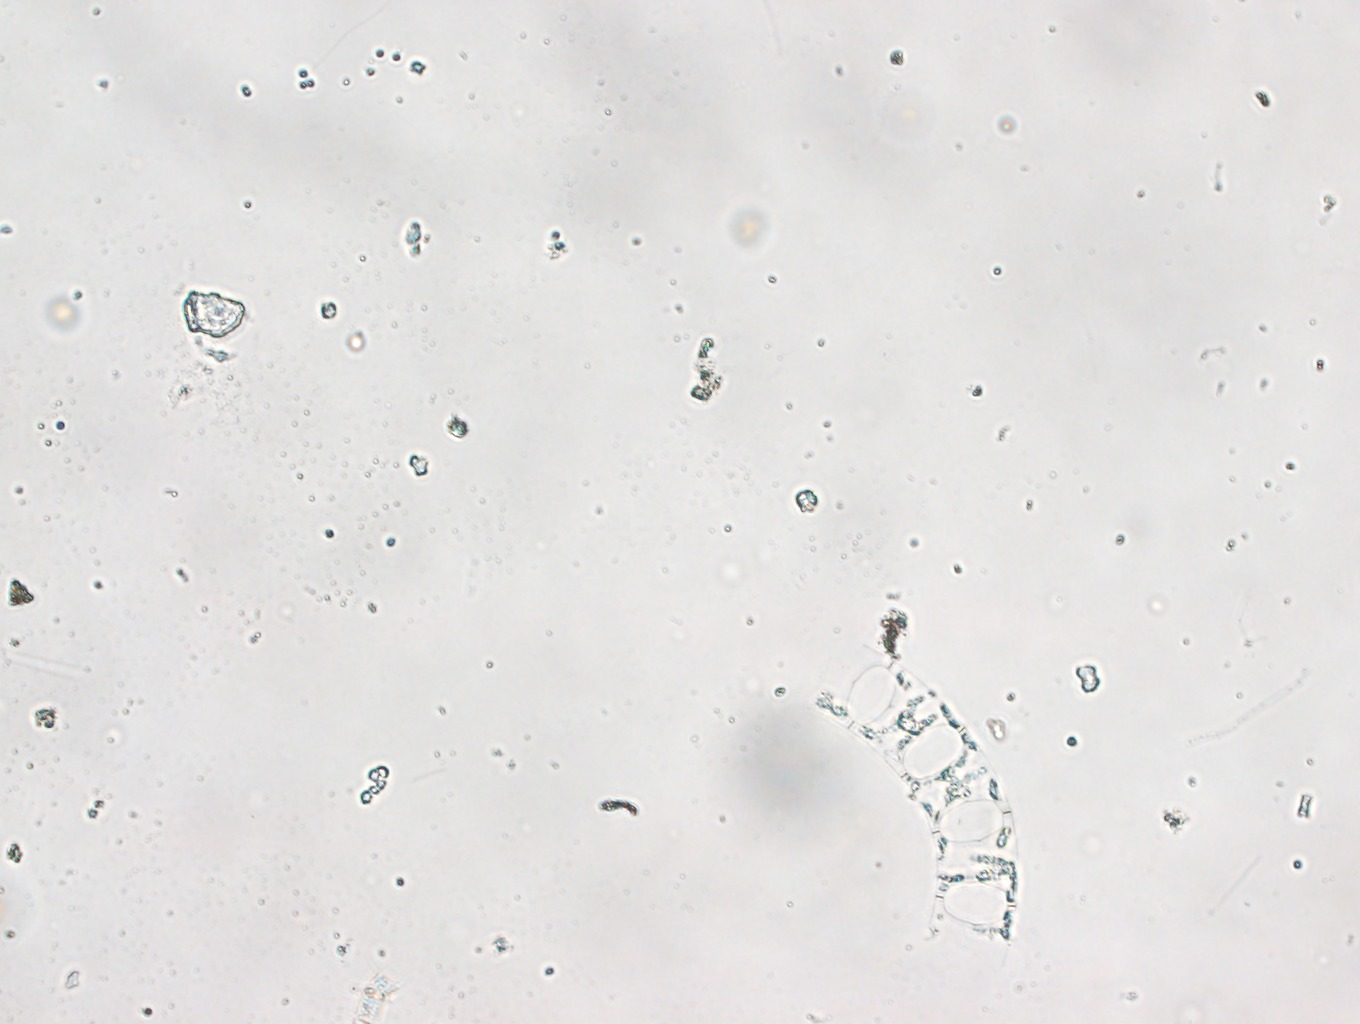eucampia: (835, 646, 1017, 945)
